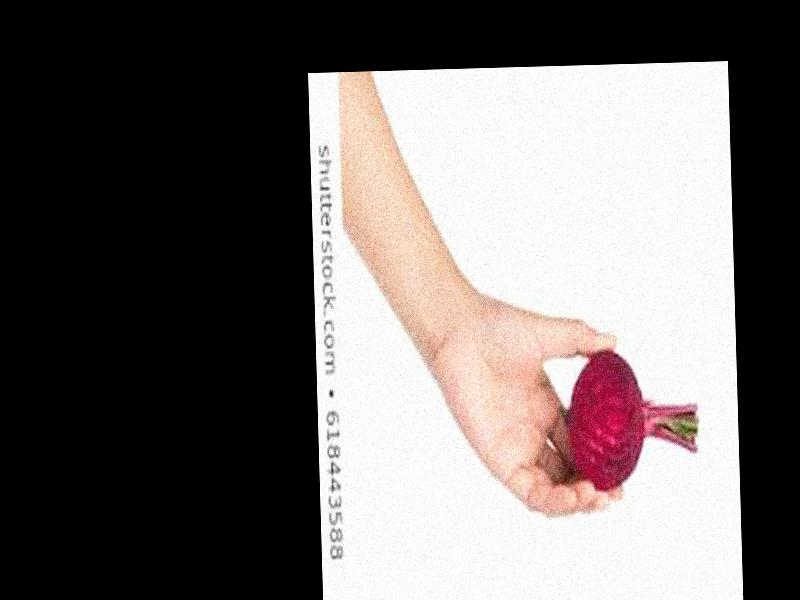Beet: (568, 349, 700, 494)
